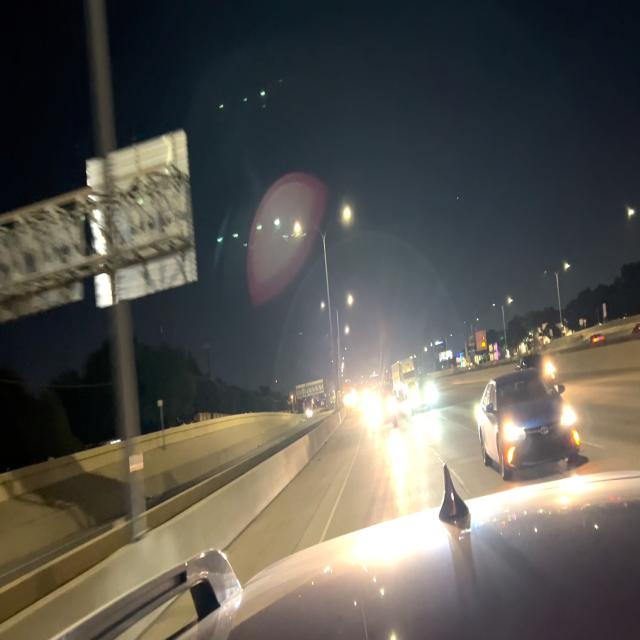back-of-sign: (0, 128, 198, 322), (295, 378, 325, 400)
